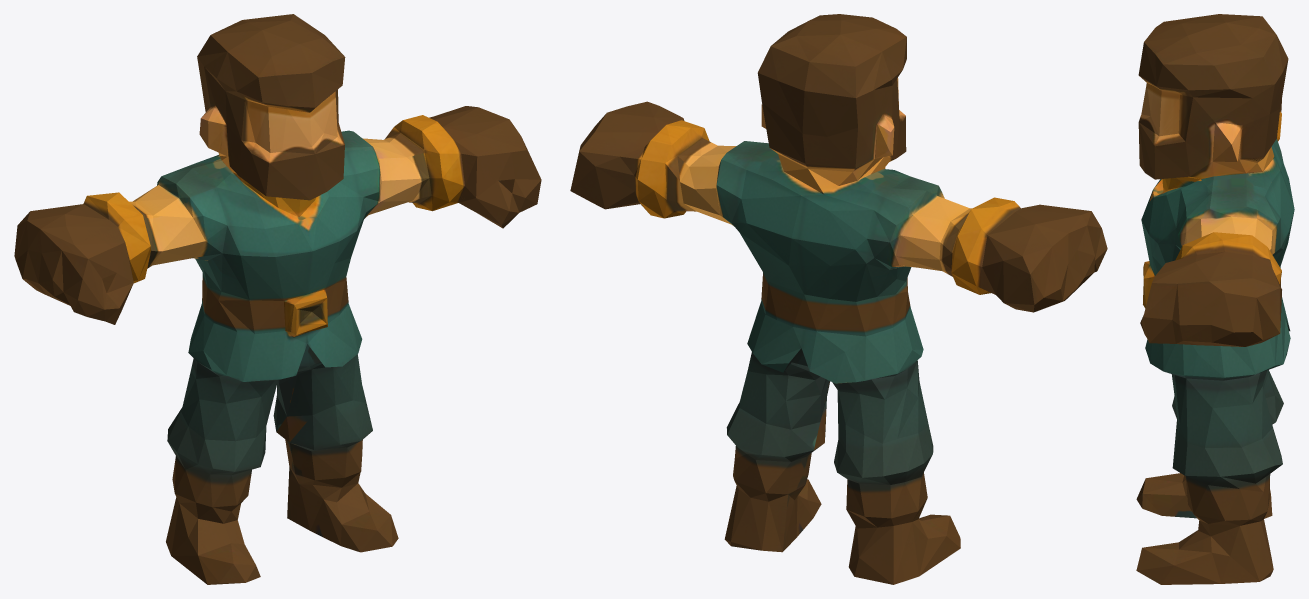
The model's file is boxer_lvl5.glb.
3 renders of one model, left to right at view 1: azimuth 30°, elevation 25°; view 2: azimuth 150°, elevation 25°; view 3: azimuth 270°, elevation 25°, orthographic.
Visible parts, largest first — view 1: tmprvl5exve.ply; view 2: tmprvl5exve.ply; view 3: tmprvl5exve.ply.
Boxes of the visible parts, x1,y1,x2,y2 form: tmprvl5exve.ply: (14, 14, 541, 584); tmprvl5exve.ply: (570, 14, 1107, 584); tmprvl5exve.ply: (1136, 14, 1294, 584).
Size of the model in its own units: 1.96 by 1.96 by 0.5491.
Materials: 1 (1 with a texture image).
